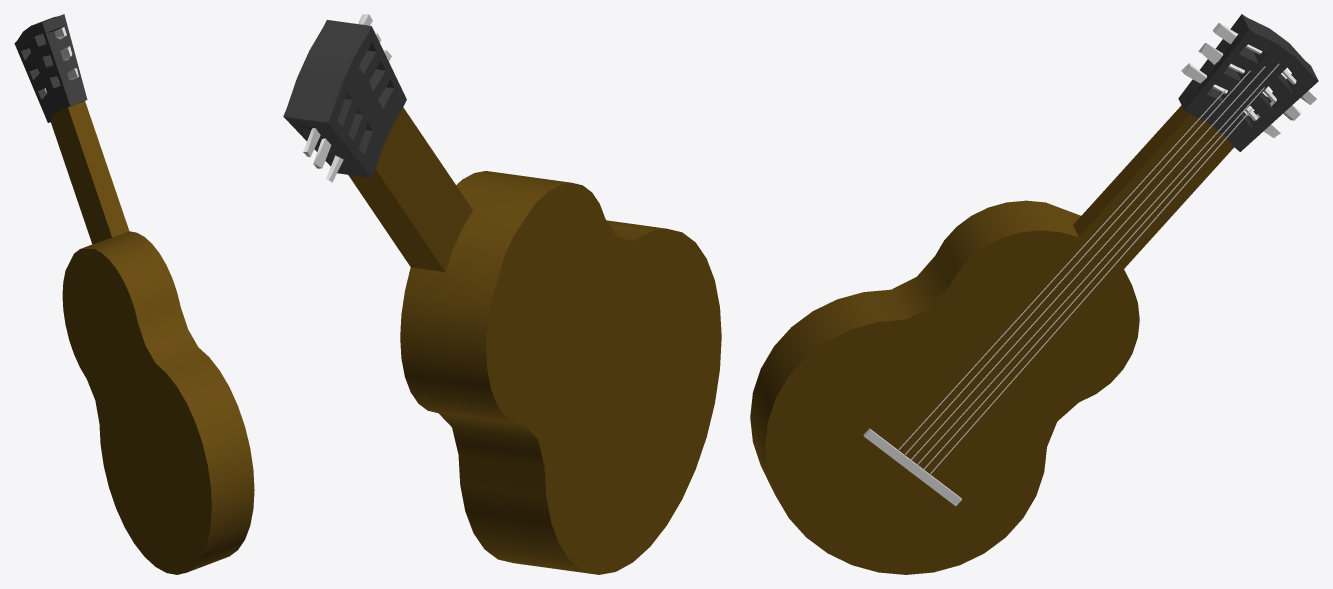
Rendered from guitar 1.fbx.
The picture shows the model from 3 angles, left to right: view 1: azimuth 30°, elevation 25°; view 2: azimuth 150°, elevation 25°; view 3: azimuth 270°, elevation 25°; orthographic projection. The views are drawn at different scales.
Visible parts, largest first — view 1: Cylinder; view 2: Cylinder; view 3: Cylinder, Cube.001, Cube.
Boxes of the visible parts, x1,y1,x2,y2 form: Cylinder: (14,14,254,574); Cylinder: (283,14,721,574); Cylinder: (750,14,1318,574); Cube.001: (895,63,1279,476); Cube: (863,428,961,506).
Size of the model in its own units: 79.47 by 642 by 605.
